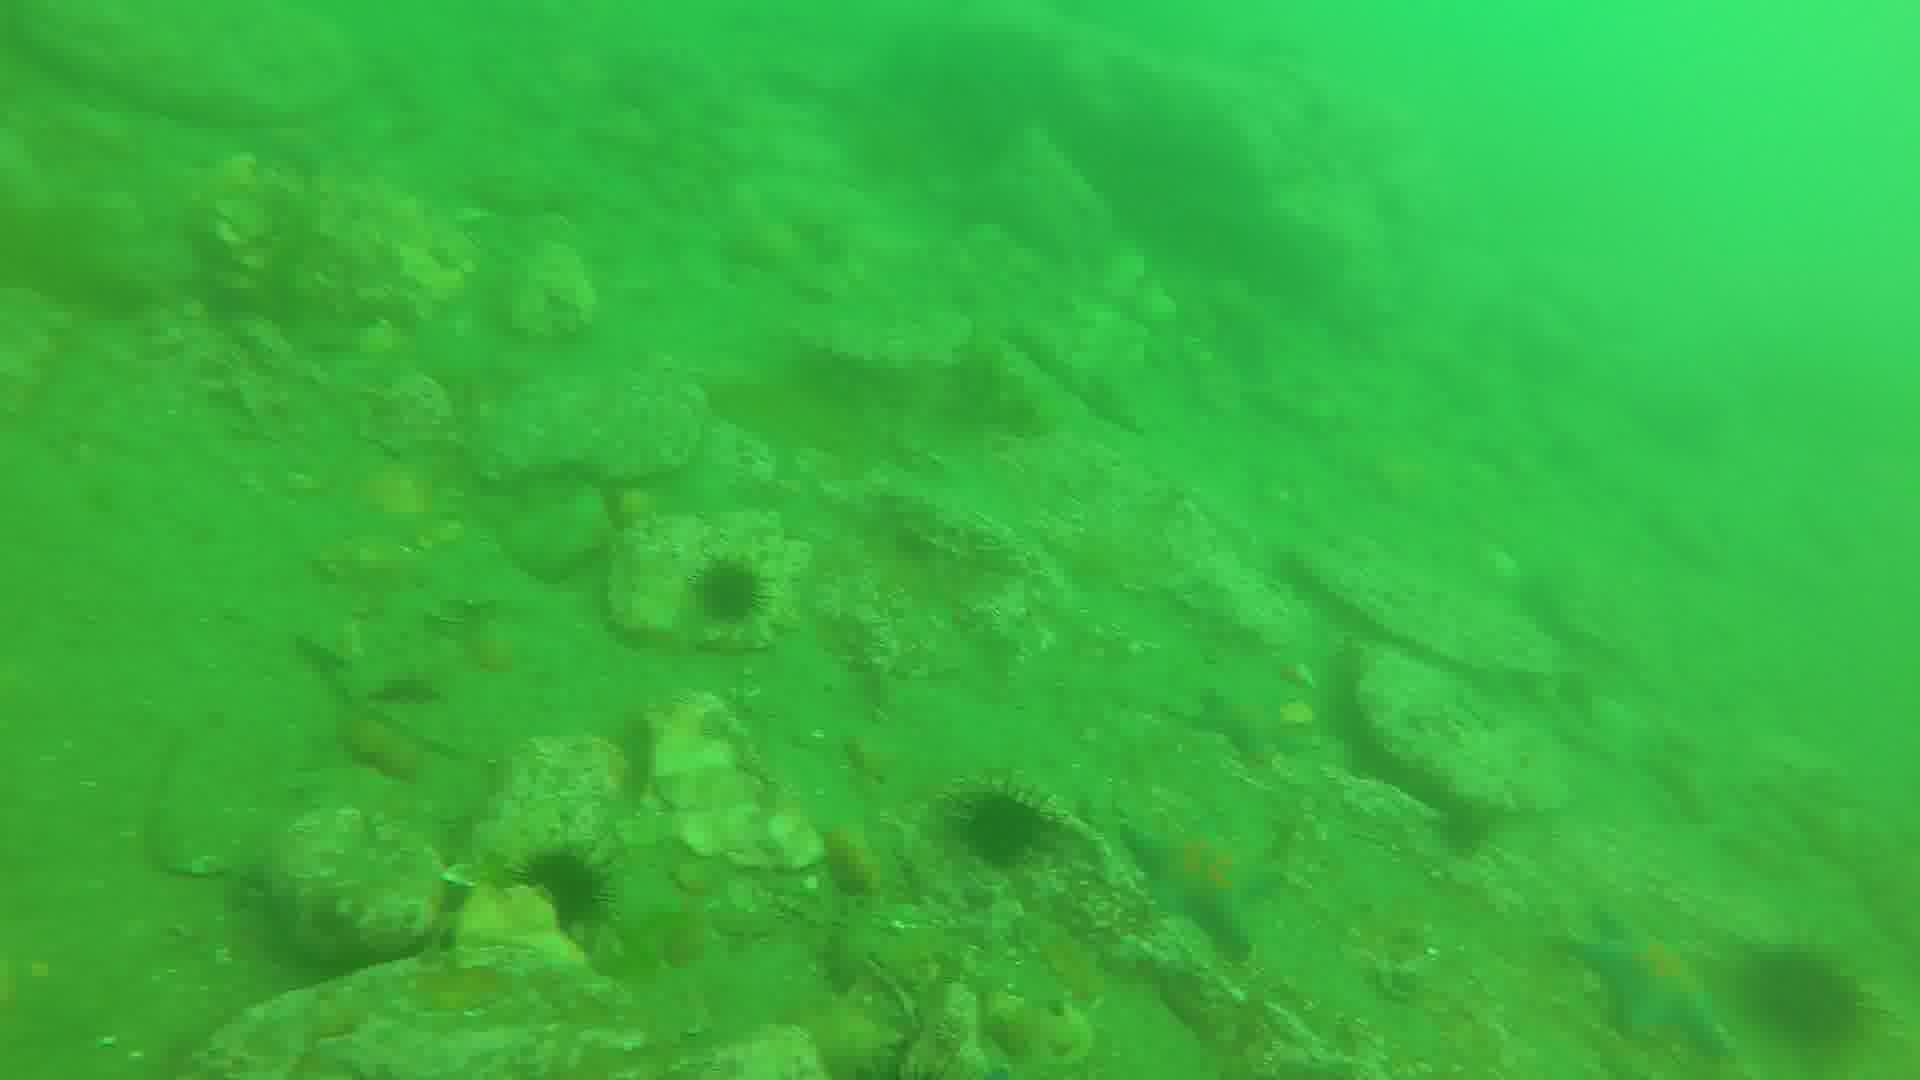echinus: (1730, 923, 1873, 1062), (516, 843, 618, 931), (945, 785, 1048, 866), (695, 554, 767, 636)
starfish: (1575, 905, 1742, 1062), (1124, 804, 1279, 955), (1200, 679, 1309, 767)
